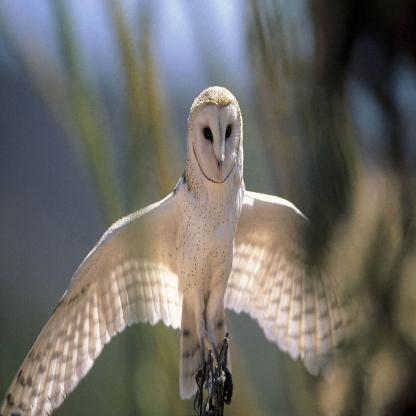owl: (27, 0, 416, 416)
